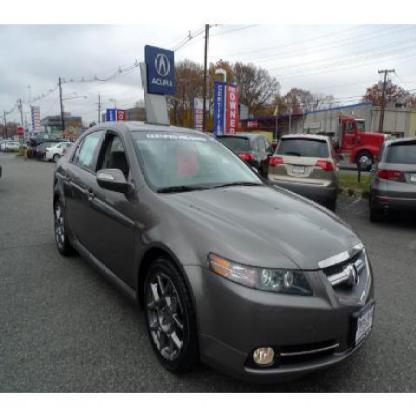Vehicle: (55, 123, 377, 380)
